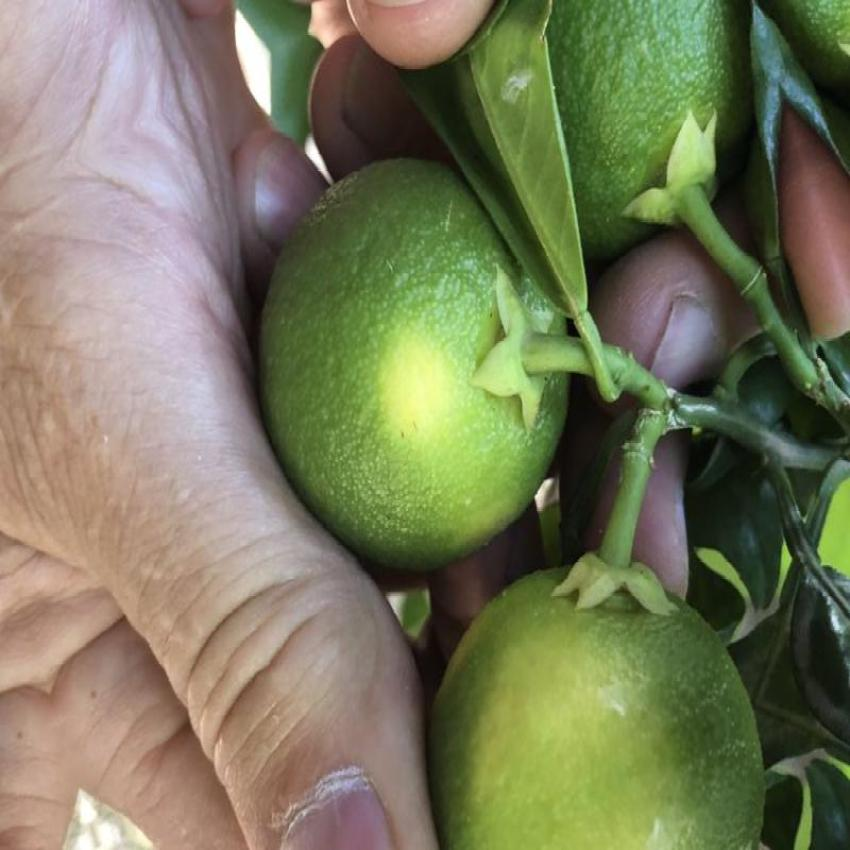Mal estado: (244, 132, 572, 582), (426, 555, 781, 848), (454, 0, 752, 266)
